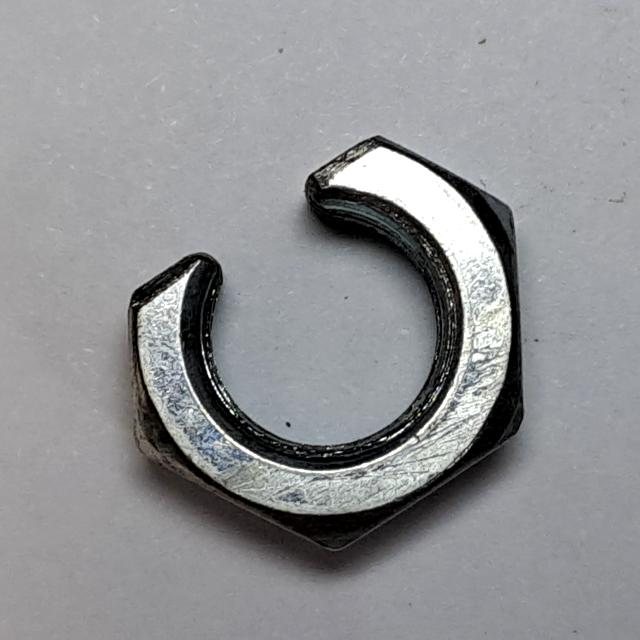Fracture: (117, 120, 539, 566)
